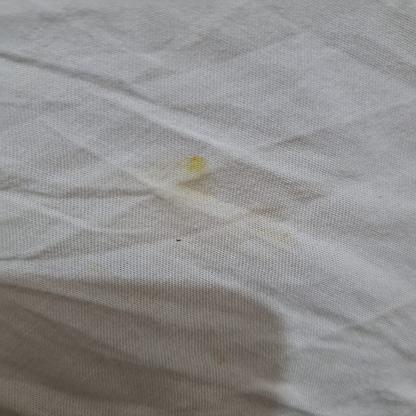spot: (129, 145, 305, 250), (147, 201, 294, 245), (172, 157, 255, 213), (143, 149, 229, 190)
